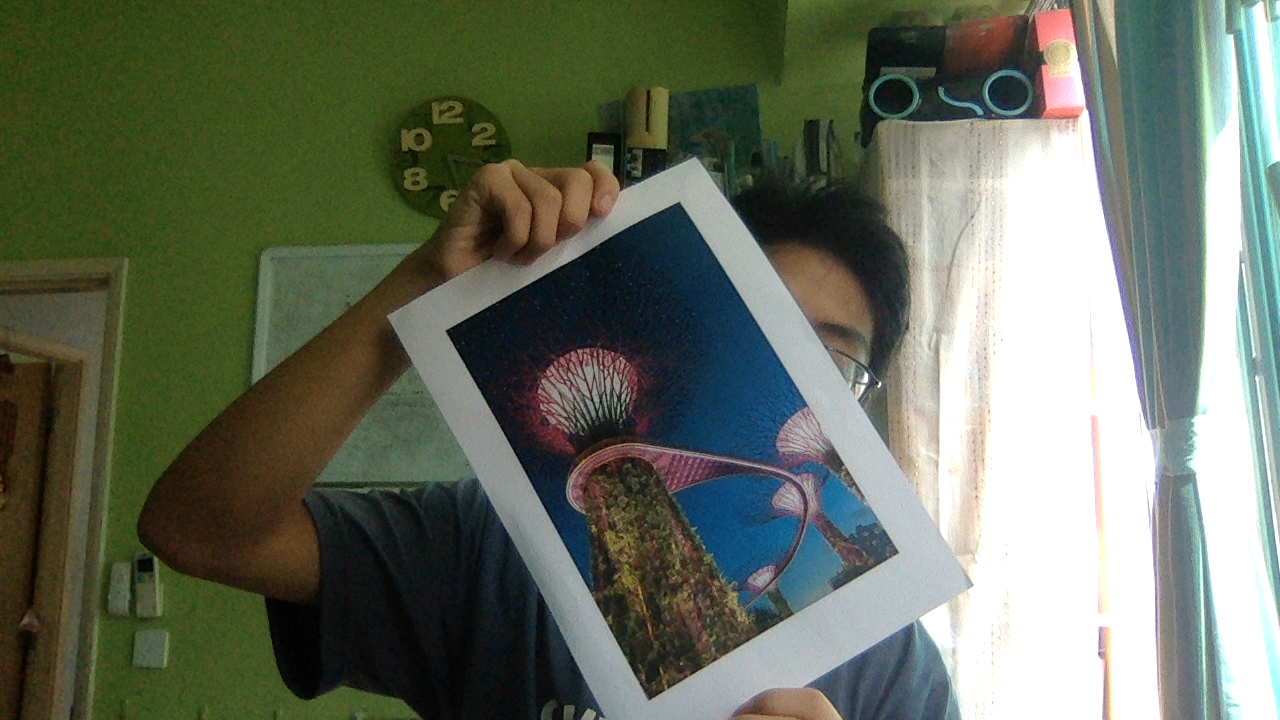GBTB: (426, 202, 919, 702)
